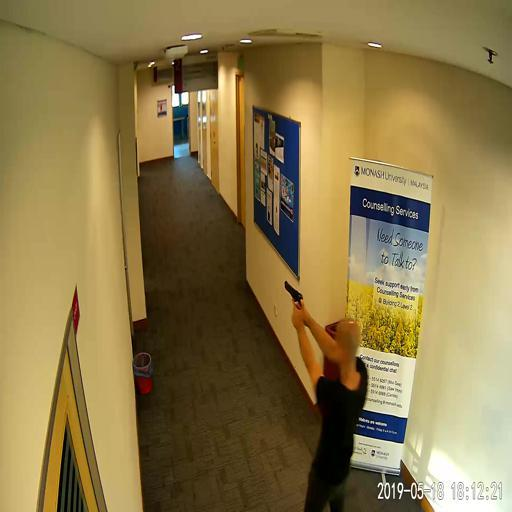Handgun: (281, 277, 304, 327)
